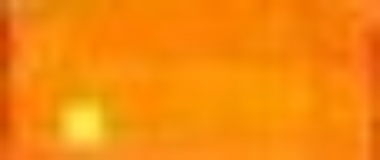Hotspot: (54, 94, 113, 144)
